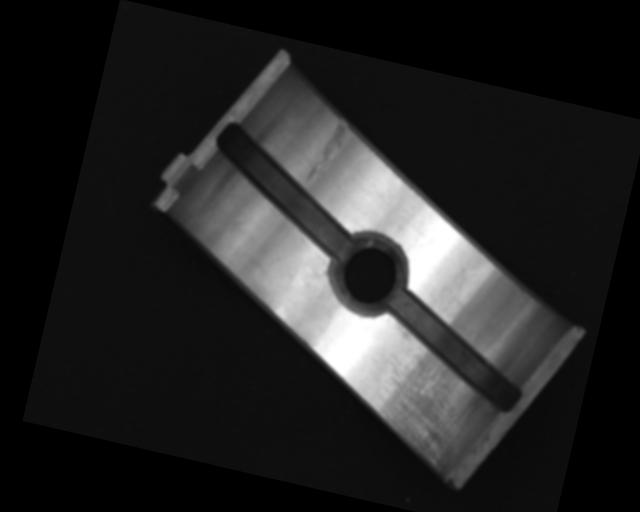gap: (198, 120, 369, 261), (371, 287, 540, 415)
hole: (326, 229, 412, 323)
nick: (303, 112, 352, 188)
scratch: (361, 343, 485, 470)
